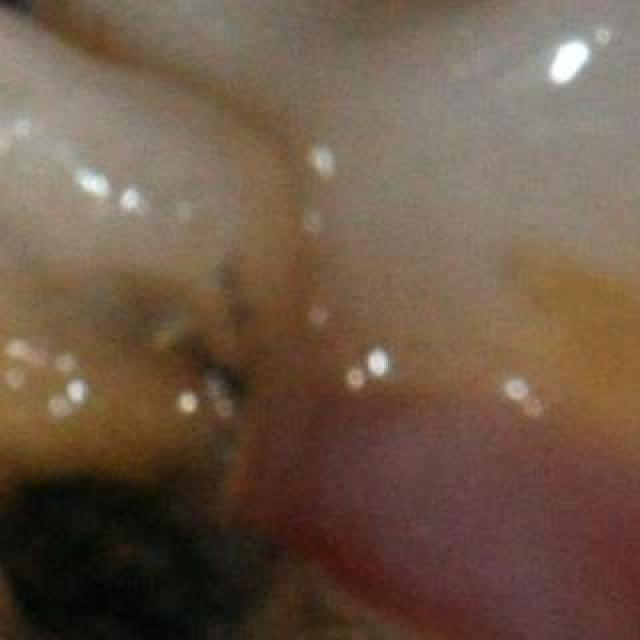cavities: (14, 14, 466, 640)
plaque: (54, 0, 640, 562)
